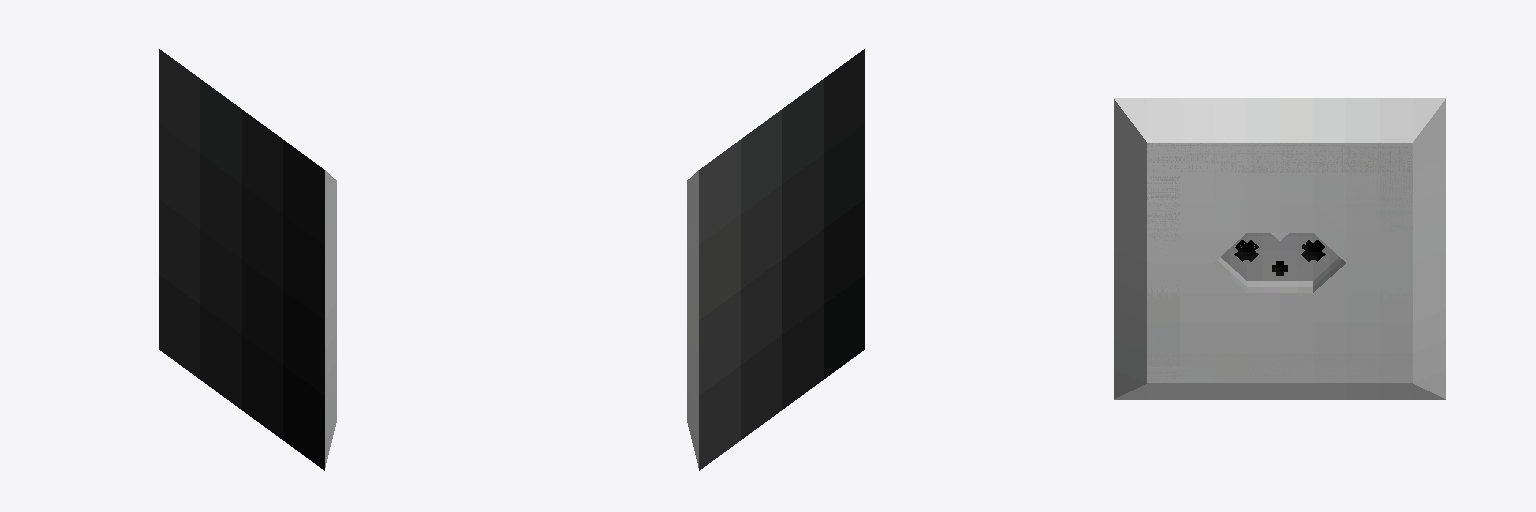
The picture shows the model from 3 angles: view 1: azimuth 30°, elevation 25°; view 2: azimuth 150°, elevation 25°; view 3: azimuth 270°, elevation 25°; orthographic projection.
Parts seen in each view (by area): view 1: SocketBase; view 2: SocketBase; view 3: Socket50V, SocketBase, Socket200V.
Boxes of the visible parts, x1,y1,x2,y2 form: SocketBase: [159, 49, 336, 470]; SocketBase: [687, 49, 864, 470]; Socket50V: [1147, 143, 1412, 382]; SocketBase: [1114, 98, 1445, 399]; Socket200V: [1147, 143, 1412, 382].
Bounding box in the file's own units: 0.0312 × 0.3125 × 0.3125.
1 materials, 1 textured.